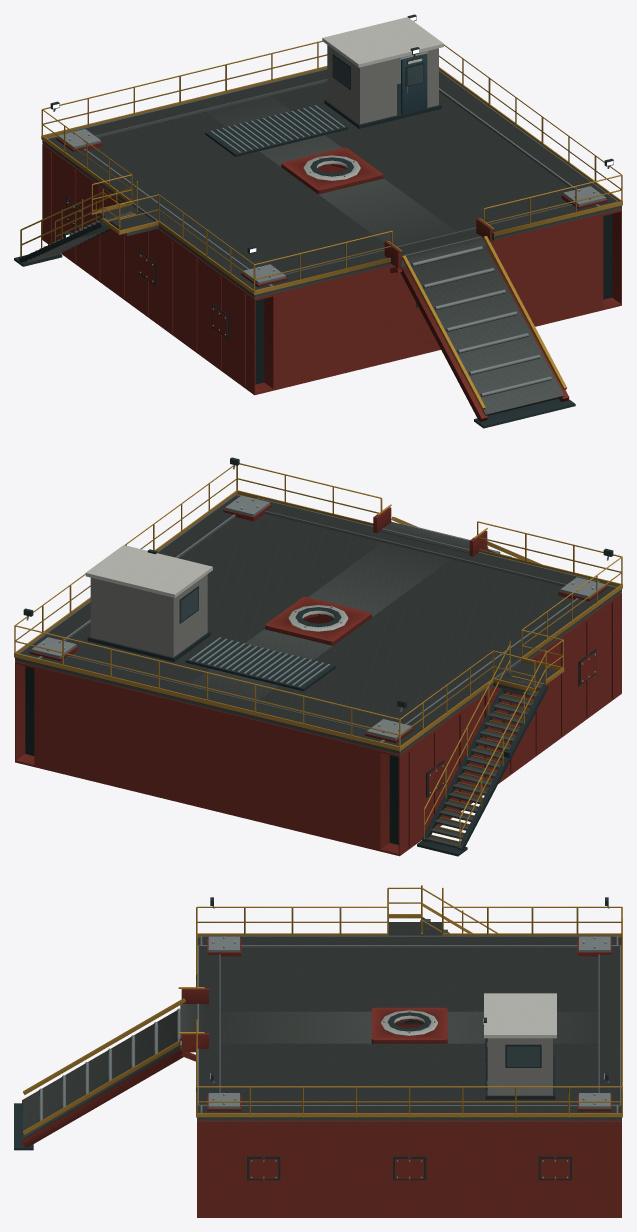
The model's file is offshore_drill_floor_lodM.glb.
3 views of the same model, one above another, from view 1: azimuth 30°, elevation 25°; view 2: azimuth 150°, elevation 25°; view 3: azimuth 270°, elevation 25° (orthographic). The views are drawn at different scales.
Parts seen in each view (by area): view 1: deck_plate_deck, primary_box_girders_oxide, catwalk_ramp_deck, perimeter_grating_deck, handrails_yellow, doghouse_ivory, perimeter_grating_steel, setback_dark, catwalk_ramp_steel, stairs_yellow, girder_stiffeners_and_diaphragms_oxide, catwalk_ramp_oxide (+13 smaller); view 2: primary_box_girders_oxide, deck_plate_deck, perimeter_grating_deck, doghouse_ivory, handrails_yellow, stairs_deck, stairs_yellow, perimeter_grating_steel, setback_dark, stairs_dark, rotary_table_oxide, girder_stiffeners_and_diaphragms_oxide (+9 smaller); view 3: deck_plate_deck, primary_box_girders_oxide, perimeter_grating_deck, handrails_yellow, doghouse_ivory, catwalk_ramp_deck, perimeter_grating_steel, girder_stiffeners_and_diaphragms_oxide, rotary_table_oxide, catwalk_ramp_oxide, catwalk_ramp_yellow, girder_access_covers_oxide (+14 smaller).
Boxes of the visible parts, <box> form: deck_plate_deck: <box>42,82,621,298</box>; primary_box_girders_oxide: <box>42,144,621,395</box>; catwalk_ramp_deck: <box>411,247,564,415</box>; perimeter_grating_deck: <box>48,69,616,289</box>; handrails_yellow: <box>41,40,622,295</box>; doghouse_ivory: <box>322,17,443,124</box>; perimeter_grating_steel: <box>47,68,618,290</box>; setback_dark: <box>205,105,348,156</box>; catwalk_ramp_steel: <box>412,246,551,396</box>; stairs_yellow: <box>20,174,159,259</box>; girder_stiffeners_and_diaphragms_oxide: <box>49,152,245,386</box>; catwalk_ramp_oxide: <box>400,247,569,421</box>; primary_box_girders_oxide: <box>15,593,621,856</box>; deck_plate_deck: <box>15,514,621,754</box>; perimeter_grating_deck: <box>20,495,615,745</box>; doghouse_ivory: <box>85,545,212,657</box>; handrails_yellow: <box>14,463,622,751</box>; stairs_deck: <box>425,662,555,848</box>; stairs_yellow: <box>423,629,564,849</box>; perimeter_grating_steel: <box>18,494,616,746</box>; setback_dark: <box>185,637,335,691</box>; stairs_dark: <box>417,675,548,856</box>; rotary_table_oxide: <box>265,596,371,645</box>; girder_stiffeners_and_diaphragms_oxide: <box>408,602,614,847</box>; deck_plate_deck: <box>197,937,621,1120</box>; primary_box_girders_oxide: <box>197,1024,621,1217</box>; perimeter_grating_deck: <box>199,937,619,1112</box>; handrails_yellow: <box>196,906,622,1117</box>; doghouse_ivory: <box>484,993,556,1095</box>; catwalk_ramp_deck: <box>23,1011,180,1139</box>; perimeter_grating_steel: <box>197,935,621,1112</box>; girder_stiffeners_and_diaphragms_oxide: <box>213,1124,605,1215</box>; rotary_table_oxide: <box>371,1007,447,1043</box>; catwalk_ramp_oxide: <box>22,1010,183,1147</box>; catwalk_ramp_yellow: <box>23,998,185,1134</box>; girder_access_covers_oxide: <box>249,1159,569,1178</box>.
Bounding box in the file's own units: 15.69 × 6.09 × 20.05.
Materials: 11 (11 with a texture image).
